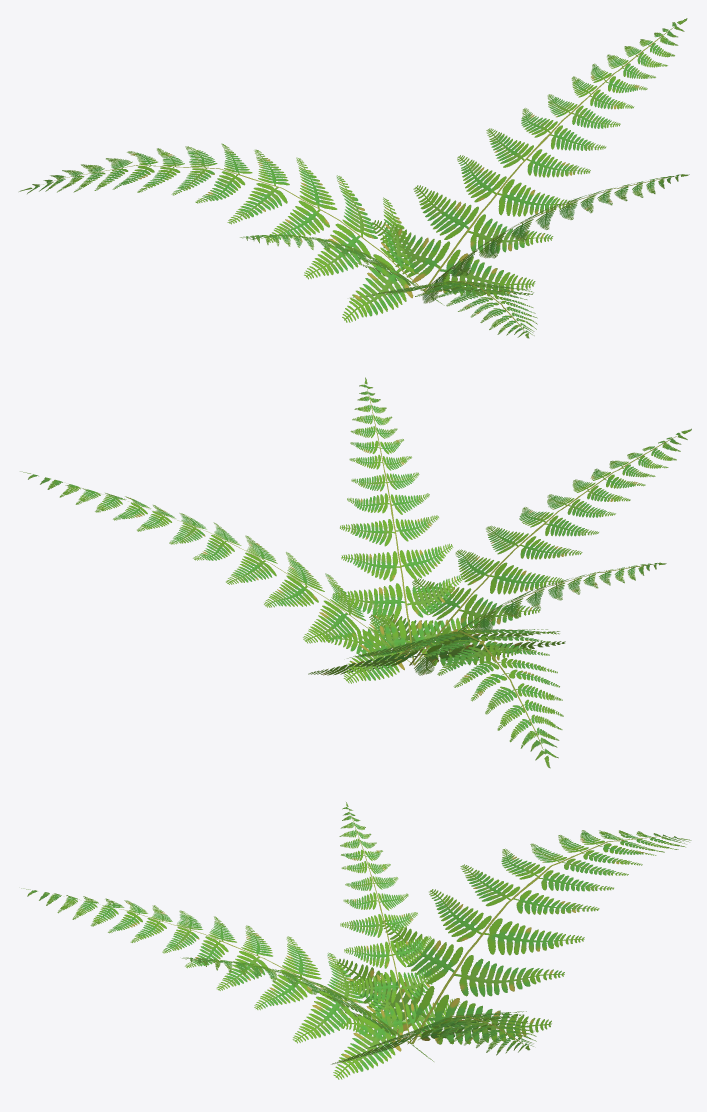
The model's file is SM_Fern_Big_Two.fbx.
3 renders of one model, top to bottom at view 1: azimuth 30°, elevation 25°; view 2: azimuth 150°, elevation 25°; view 3: azimuth 270°, elevation 25°, orthographic. The views are drawn at different scales.
Visible parts, largest first — view 1: polySurface7; view 2: polySurface7; view 3: polySurface7.
Part boxes in pixels (left/top/right/bottom): polySurface7: left=19, top=18, right=689, bottom=338; polySurface7: left=20, top=377, right=691, bottom=768; polySurface7: left=21, top=802, right=691, bottom=1079.
Bounding box in the file's own units: 288 × 273 × 80.52.
